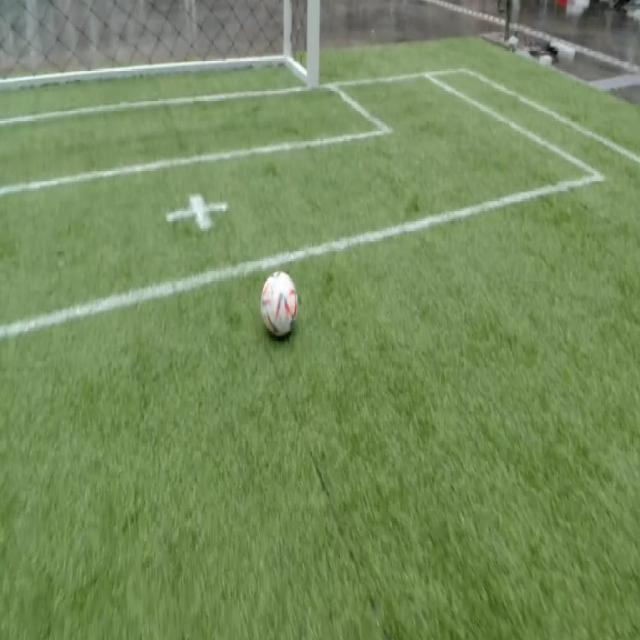ball: (262, 270, 298, 338)
goalpost: (303, 44, 320, 92)
